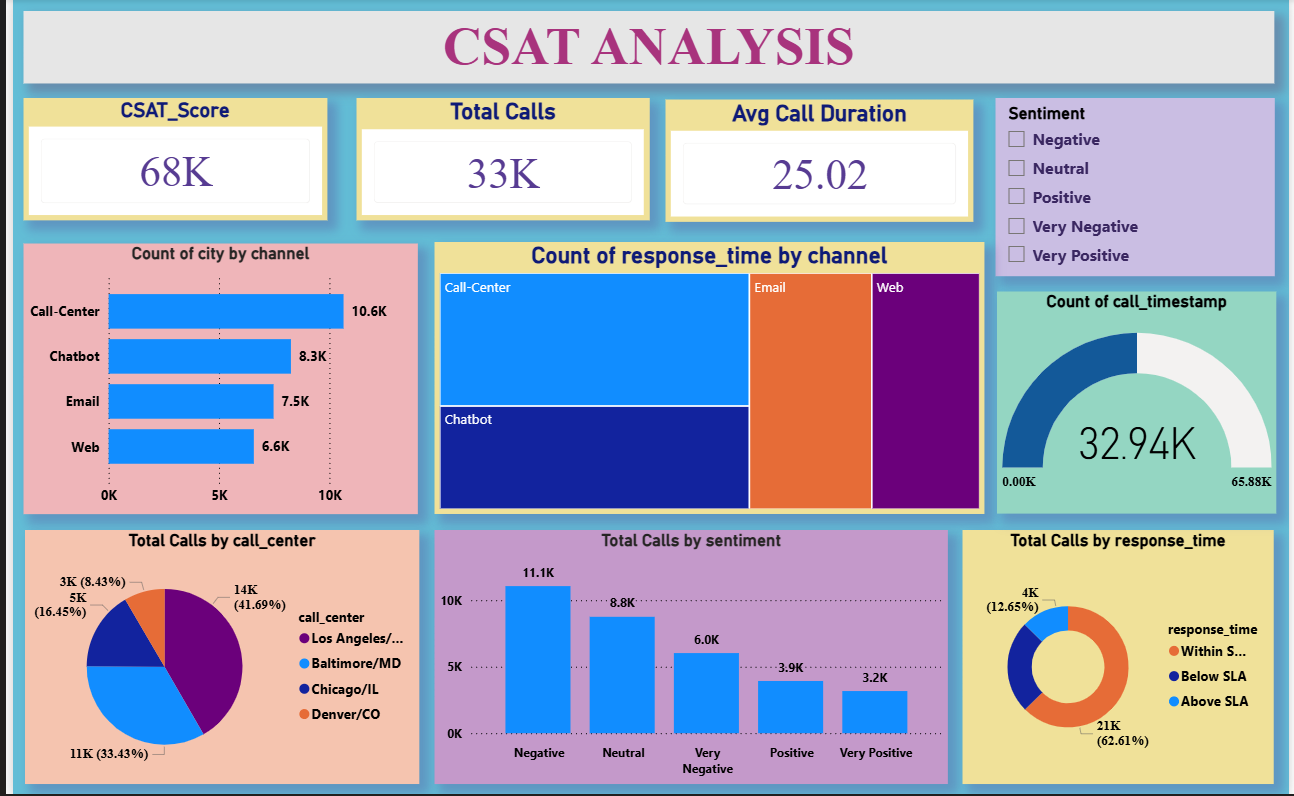

What the dashboard file says about the page in this screenshot:
{"tool":"powerbi","page":{"name":"Page 2","canvas":[1280,801],"ordinal":1},"visuals":[{"type":"textbox","box":[10.6,12.1,1253.8,72.7],"z":0},{"type":"cardVisual","title":"CSAT_Score","fields":{"Data":["Sum(project_csat_analytics CSAT.csat_score)"]},"box":[10.6,99.9,304.4,122.7],"z":1000},{"type":"cardVisual","title":"Total Calls","fields":{"Data":["project_csat_analytics CSAT.Total Calls"]},"box":[343.7,99.9,293.8,122.7],"z":2000},{"type":"cardVisual","title":"Avg Call Duration","fields":{"Data":["Avg(project_csat_analytics CSAT.call_duration_in_minutes)"]},"box":[654.1,101.5,308.9,122.7],"z":3000},{"type":"slicer","fields":{"Values":["project_csat_analytics CSAT.sentiment"]},"box":[984.2,99.9,280.1,178.7],"z":4000},{"type":"barChart","fields":{"Category":["project_csat_analytics CSAT.channel"],"Y":["CountNonNull(project_csat_analytics CSAT.city)"]},"box":[10.6,245.3,395.2,271],"z":5000},{"type":"pieChart","fields":{"Category":["project_csat_analytics CSAT.call_center"],"Y":["project_csat_analytics CSAT.Total Calls"]},"box":[12.1,533,395.2,254.4],"z":6000},{"type":"treemap","fields":{"Values":["CountNonNull(project_csat_analytics CSAT.response_time)"],"Group":["project_csat_analytics CSAT.channel"]},"box":[422.5,243.8,551.2,272.6],"z":7000},{"type":"columnChart","fields":{"Y":["project_csat_analytics CSAT.Total Calls"],"Category":["project_csat_analytics CSAT.sentiment"]},"box":[422.5,533,514.8,254.4],"z":8000},{"type":"donutChart","fields":{"Category":["project_csat_analytics CSAT.response_time"],"Y":["project_csat_analytics CSAT.Total Calls"]},"box":[952.4,533,311.9,254.4],"z":9000},{"type":"gauge","fields":{"Y":["CountNonNull(project_csat_analytics CSAT.call_timestamp)"]},"box":[985.7,293.8,280.1,222.6],"z":10000}]}

Visuals, with their boxes in screenshot pixels (x1, y1, x2, y2), scaled from the page's 1280x801 canvas onto the 1294x796 screenshot:
textbox: BBox(11, 12, 1278, 84)
"CSAT_Score" cardVisual: BBox(11, 99, 318, 221)
"Total Calls" cardVisual: BBox(347, 99, 644, 221)
"Avg Call Duration" cardVisual: BBox(661, 101, 974, 223)
slicer - project_csat_analytics CSAT.sentiment: BBox(995, 99, 1278, 277)
barChart - project_csat_analytics CSAT.channel x CountNonNull(project_csat_analytics CSAT.city): BBox(11, 244, 410, 513)
pieChart - project_csat_analytics CSAT.call_center x project_csat_analytics CSAT.Total Calls: BBox(12, 530, 412, 782)
treemap - CountNonNull(project_csat_analytics CSAT.response_time) x project_csat_analytics CSAT.channel: BBox(427, 242, 984, 513)
columnChart - project_csat_analytics CSAT.Total Calls x project_csat_analytics CSAT.sentiment: BBox(427, 530, 948, 782)
donutChart - project_csat_analytics CSAT.response_time x project_csat_analytics CSAT.Total Calls: BBox(963, 530, 1278, 782)
gauge - CountNonNull(project_csat_analytics CSAT.call_timestamp): BBox(996, 292, 1280, 513)
